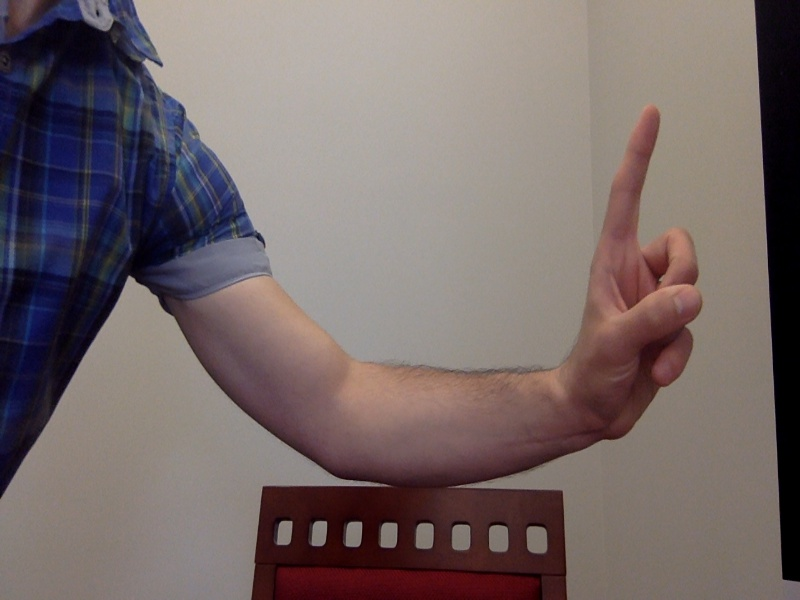1-hand: (571, 98, 703, 444)
